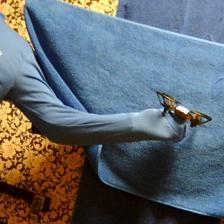drone: (157, 92, 212, 128)
